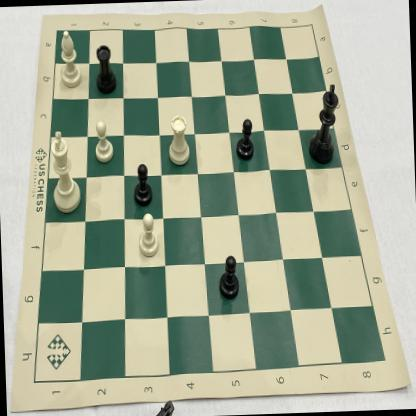bishop: (56, 26, 82, 92)
king: (303, 80, 344, 168), (46, 128, 84, 218)
pawn: (216, 248, 243, 304), (136, 210, 163, 260), (90, 116, 116, 165), (130, 161, 155, 209), (234, 115, 256, 166)
rook: (165, 112, 193, 169), (92, 42, 118, 96)
